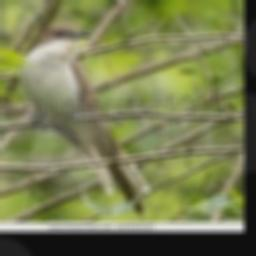Cuckoo: (20, 23, 151, 213)
